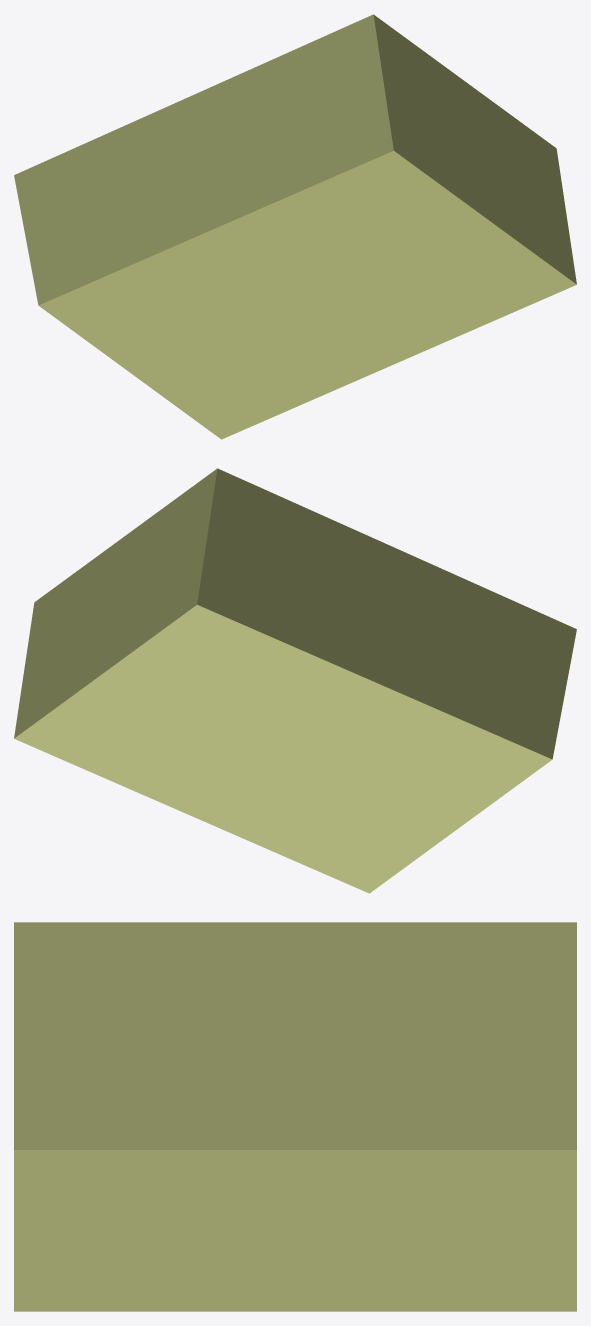
3 renders of one model, top to bottom at view 1: azimuth 30°, elevation 25°; view 2: azimuth 150°, elevation 25°; view 3: azimuth 270°, elevation 25°, orthographic. The views are drawn at different scales.
Parts seen in each view (by area): view 1: 0_1_2_3_3_3_3_3_1_3_2; view 2: 0_1_2_3_3_3_3_3_1_3_2; view 3: 0_1_2_3_3_3_3_3_1_3_2.
Part boxes in pixels (left/top/right/bottom): 0_1_2_3_3_3_3_3_1_3_2: left=14, top=14, right=576, bottom=439; 0_1_2_3_3_3_3_3_1_3_2: left=14, top=468, right=576, bottom=893; 0_1_2_3_3_3_3_3_1_3_2: left=14, top=922, right=576, bottom=1311.
Bounding box in the file's own units: 10.78 × 5.68 × 9.
